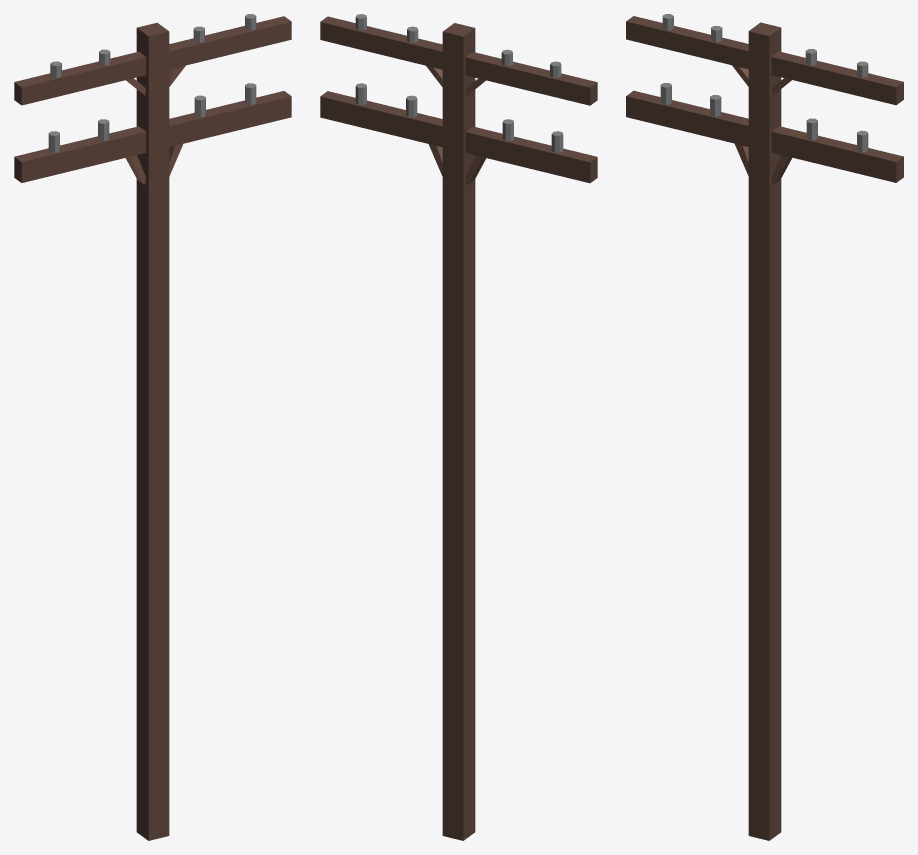
File: electricpole.glb
The picture shows the model from 3 angles, left to right: view 1: azimuth 30°, elevation 25°; view 2: azimuth 150°, elevation 25°; view 3: azimuth 330°, elevation 25°; orthographic projection.
Visible parts, largest first — view 1: Pole.001; view 2: Pole.001; view 3: Pole.001.
Part boxes in pixels (x1=…): Pole.001: x1=14, y1=14, x2=291, y2=840; Pole.001: x1=320, y1=14, x2=597, y2=840; Pole.001: x1=626, y1=14, x2=903, y2=840.
Bounding box in the file's own units: 3.65 × 10.39 × 0.28.
